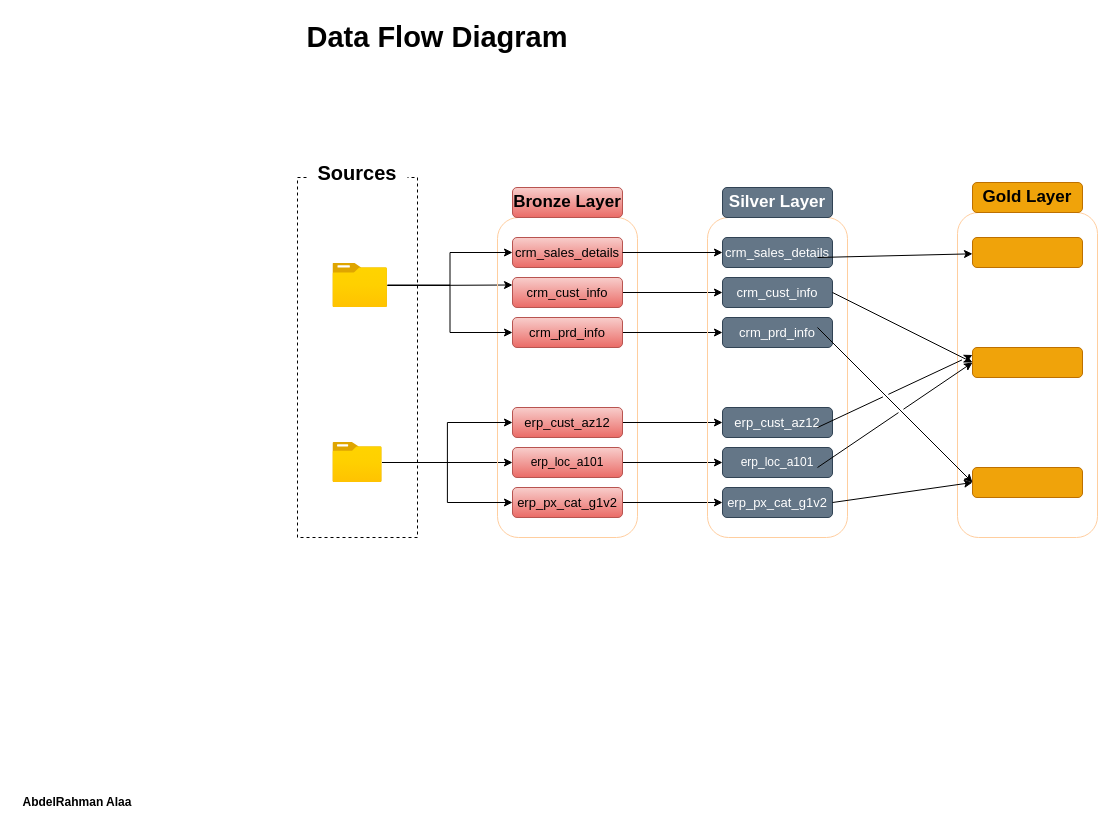
Some shapes in this 1115 by 834 pixel diagram are drawn without their labels. Here are the shapes that lost their labels. From the top down, the centre of each, then its label:
At point 1027,252: "fact_sales".
At point 359,285: "CRM".
At point 1027,362: "dim_customers".
At point 357,462: "ERP".
At point 1027,482: "dim_products".
